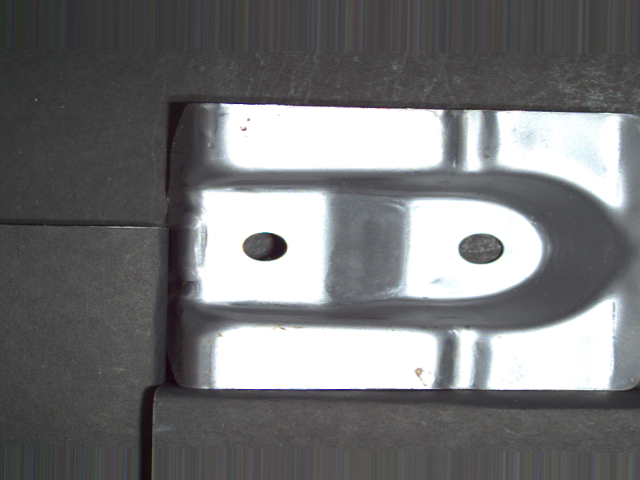defect: (452, 228, 510, 268)
